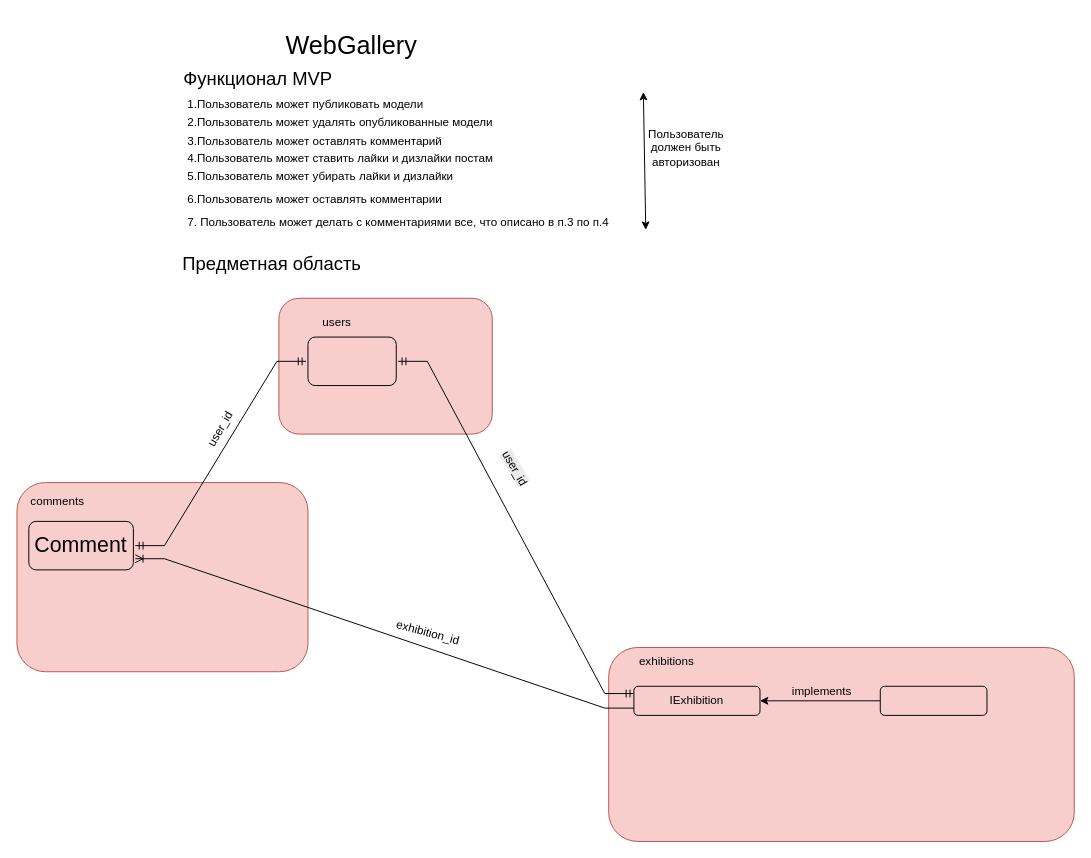
Image size: 1091x858. Some labels were removed from this diagram. Here are the shapes that lost their labels. From the top down, the centre of each, then its label:
At point (351, 361): "User".
At point (933, 700): "RasterExhibition".
